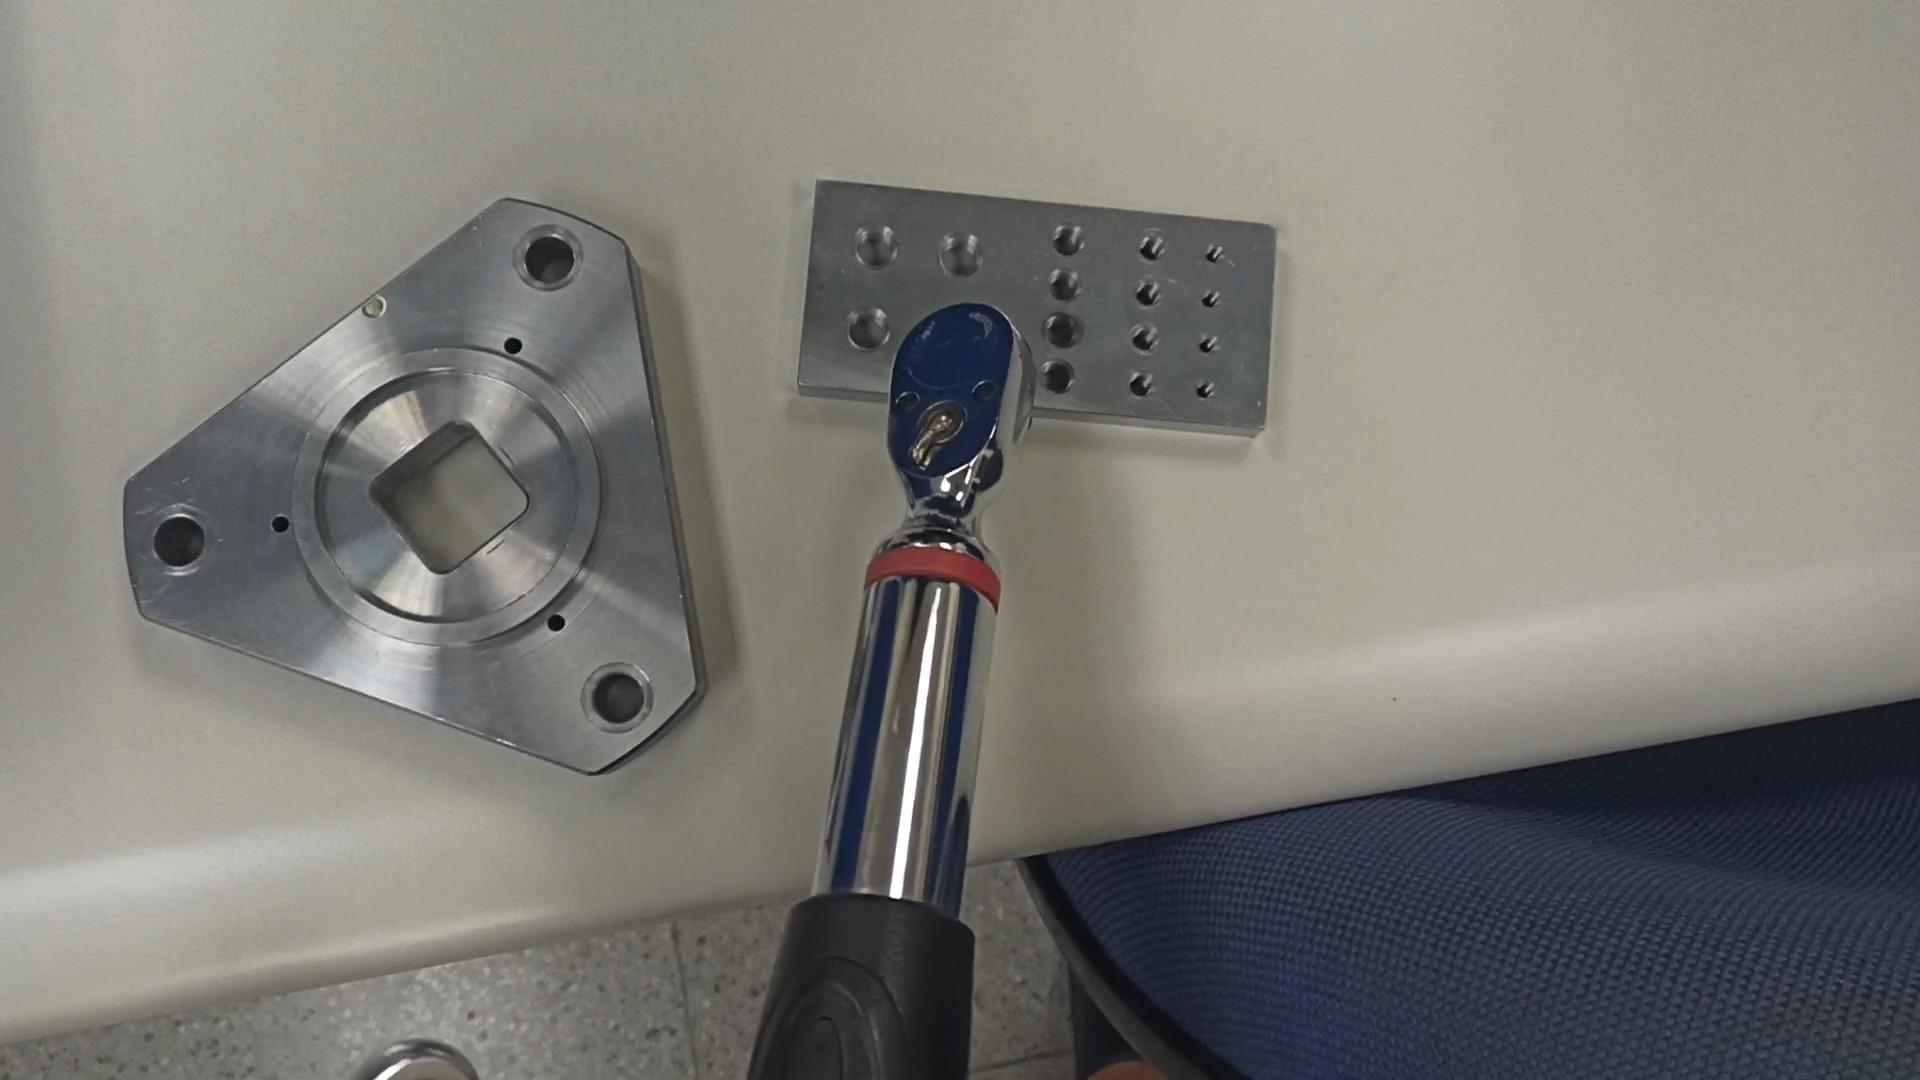Tool: (863, 293, 1010, 547)
hole: (576, 661, 657, 736), (146, 504, 212, 578), (519, 230, 588, 297), (936, 229, 990, 285), (854, 218, 907, 274), (847, 305, 896, 357), (1041, 310, 1084, 352), (1044, 266, 1084, 306), (1046, 220, 1088, 258), (1039, 359, 1077, 399), (1122, 369, 1160, 404), (1127, 321, 1164, 356), (1131, 276, 1166, 312), (1136, 229, 1169, 264), (1191, 375, 1225, 406), (1203, 243, 1232, 273), (1196, 331, 1226, 360), (1200, 287, 1227, 314), (269, 511, 296, 538)
